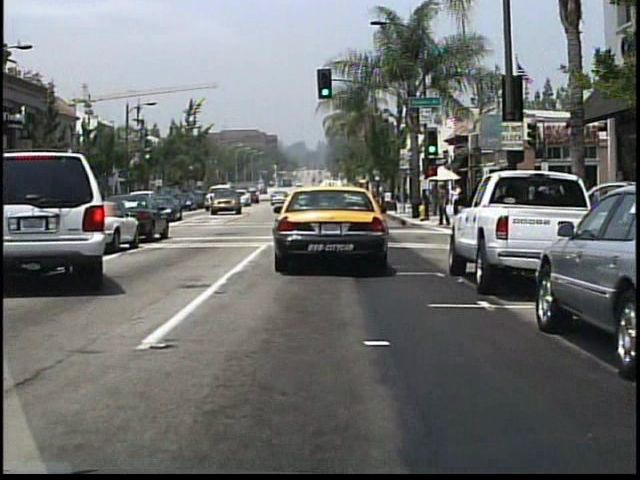person: (437, 182, 450, 226), (428, 182, 439, 216), (449, 181, 460, 210)
